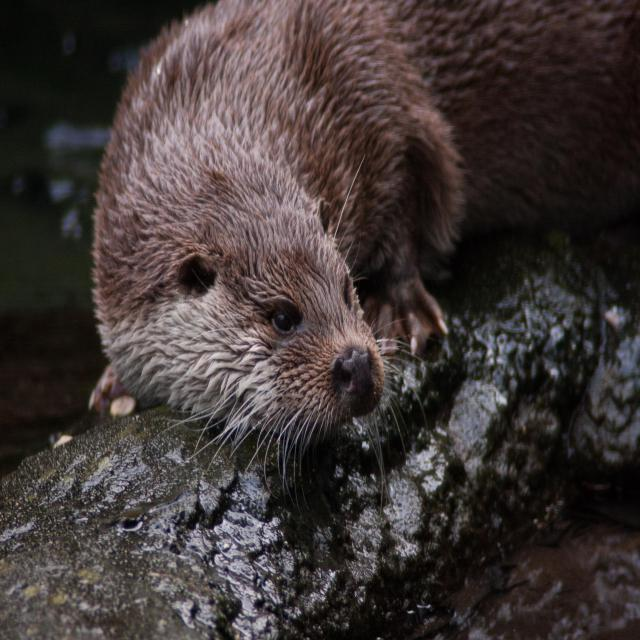otter: (94, 1, 386, 436)
